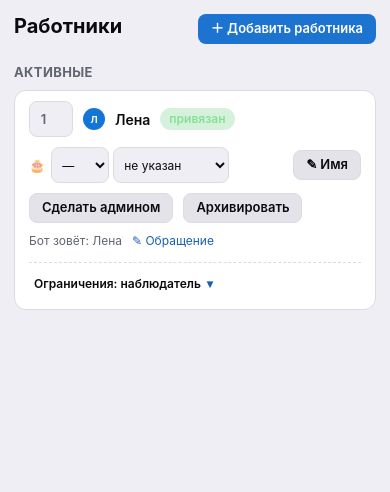
it: ограничения работника свёрнуты › у наблюдателя галка назначений недоступна и показывает хранимое false
What coordinates should you click on to do the following:
click the button with class "employee-restrictions-toggle"
I would click on:
 (123, 284)
Its box is left=29, top=269, right=218, bottom=299.
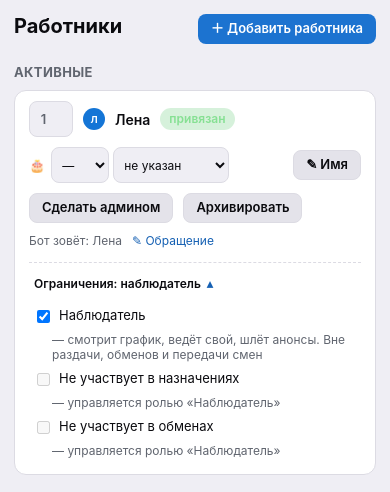
Expected: the checkbox labelled "Не участвует в назначениях — управляется ролью «Наблюдатель»" is disabled, left=37, top=373, right=50, bottom=386
Expected: the checkbox labelled "Не участвует в назначениях — управляется ролью «Наблюдатель»" is not checked, left=37, top=373, right=50, bottom=386
